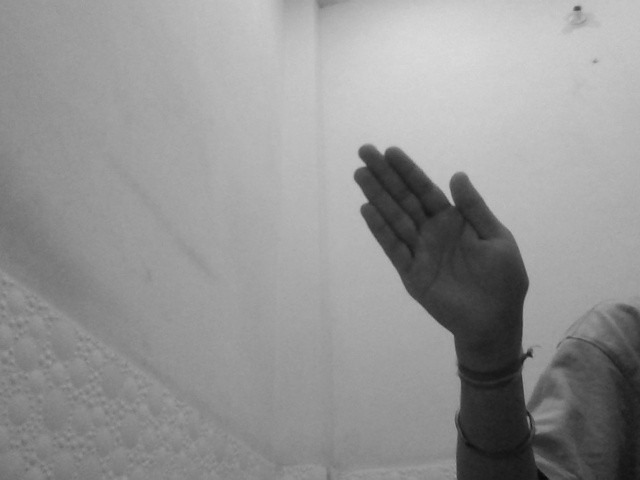Hello: (349, 139, 530, 342)
